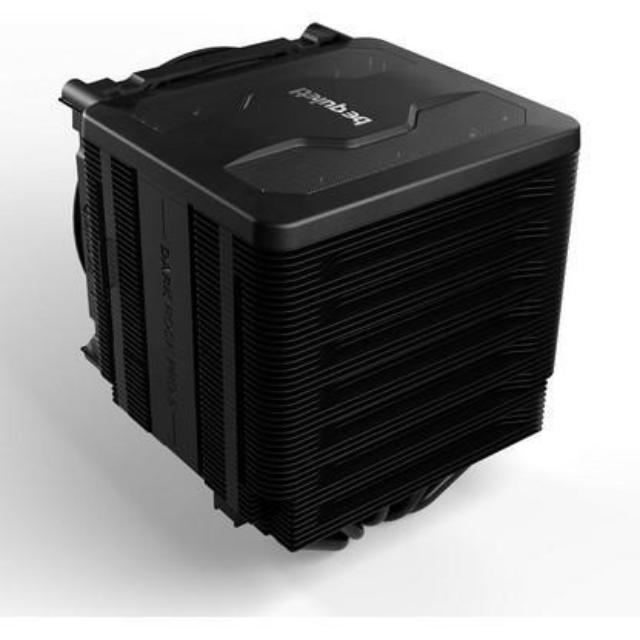CPU_Fan: (61, 16, 590, 559)
